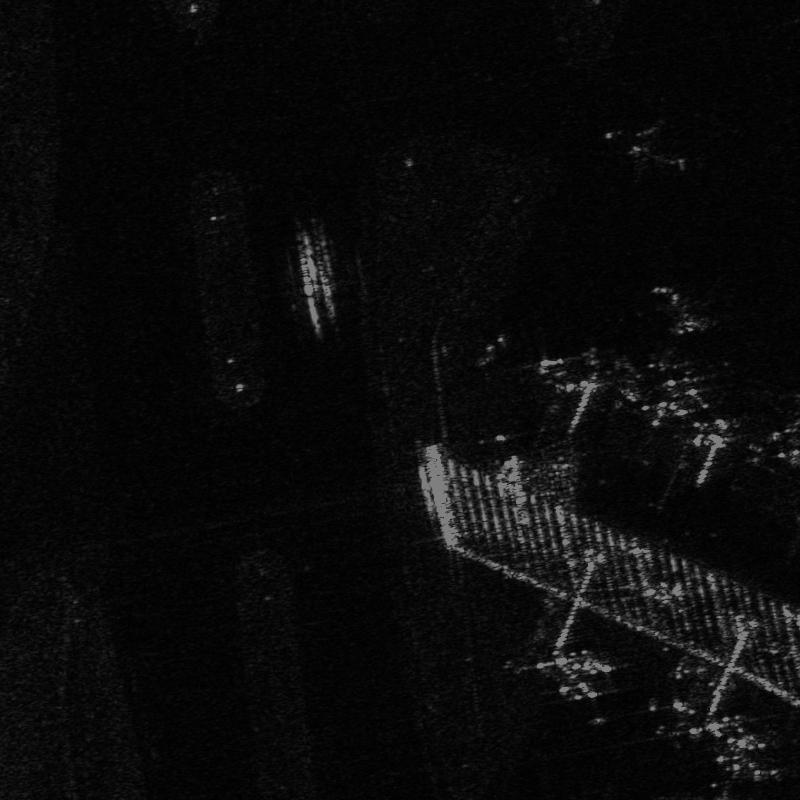Boeing787: (633, 367, 711, 412), (653, 781, 772, 799)
other: (598, 115, 691, 187)
